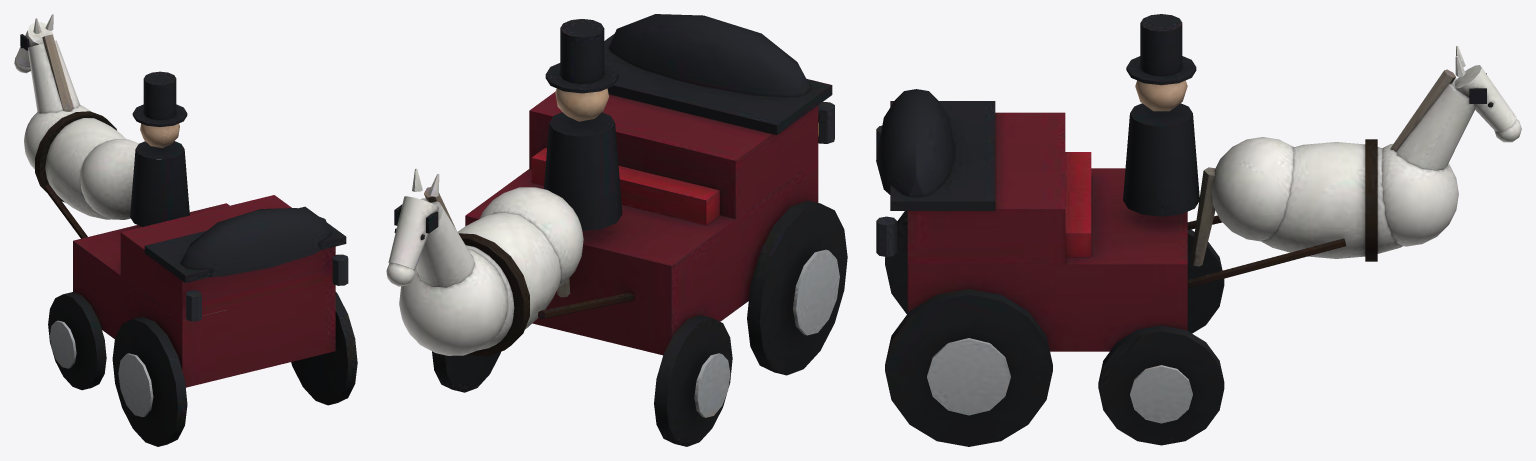
File: carruaje.glb
3 views of the same model, side by side, from view 1: azimuth 30°, elevation 25°; view 2: azimuth 150°, elevation 25°; view 3: azimuth 270°, elevation 25° (orthographic). The views are drawn at different scales.
Visible parts, largest first — view 1: carruaje; view 2: carruaje; view 3: carruaje.
Boxes of the visible parts, x1=… form: carruaje: x1=14, y1=14, x2=357, y2=446; carruaje: x1=386, y1=14, x2=847, y2=446; carruaje: x1=876, y1=14, x2=1521, y2=446.
Bounding box in the file's own units: 1.7 × 2.32 × 3.69.
1 material, 1 textured.
